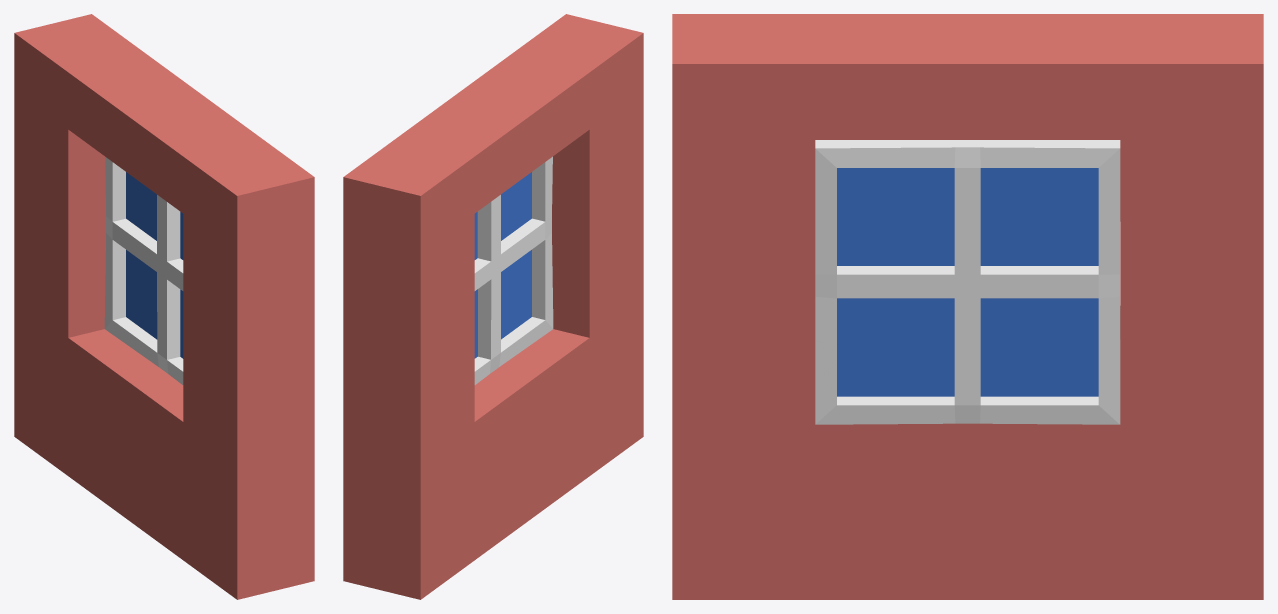
The model's file is wall_window.fbx.
3 views of the same model, side by side, from view 1: azimuth 30°, elevation 25°; view 2: azimuth 150°, elevation 25°; view 3: azimuth 270°, elevation 25° (orthographic). The views are drawn at different scales.
Visible parts, largest first — view 1: okno_sciana, okno; view 2: okno_sciana, okno; view 3: okno_sciana, okno.
Boxes of the visible parts, <box> form: okno_sciana: <box>14,14,314,599</box>; okno: <box>104,156,183,384</box>; okno_sciana: <box>343,14,643,599</box>; okno: <box>474,156,553,384</box>; okno_sciana: <box>672,14,1263,599</box>; okno: <box>815,140,1120,424</box>.
Size of the model in its own units: 46.98 by 200 by 200.
